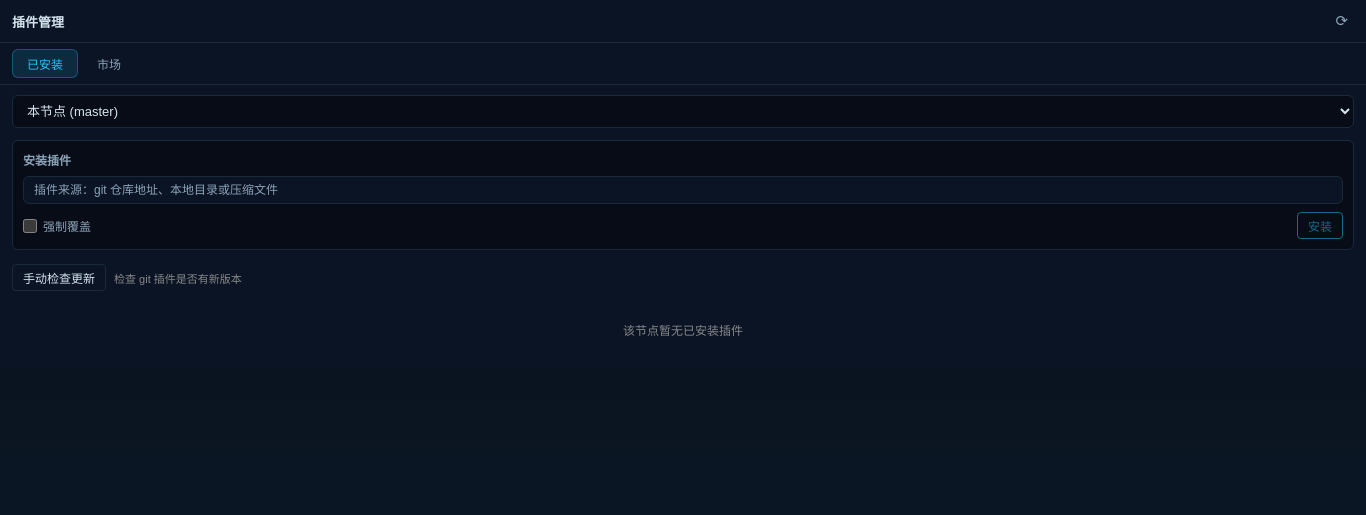
Test case: PluginSidebar › 市场 tab：加载时带分页参数并渲染总数/分页信息
The width and height of the screenshot is (1366, 515).
Click the button "市场" at coordinates (109, 64), box top-left (82, 49), bottom-right (136, 78)
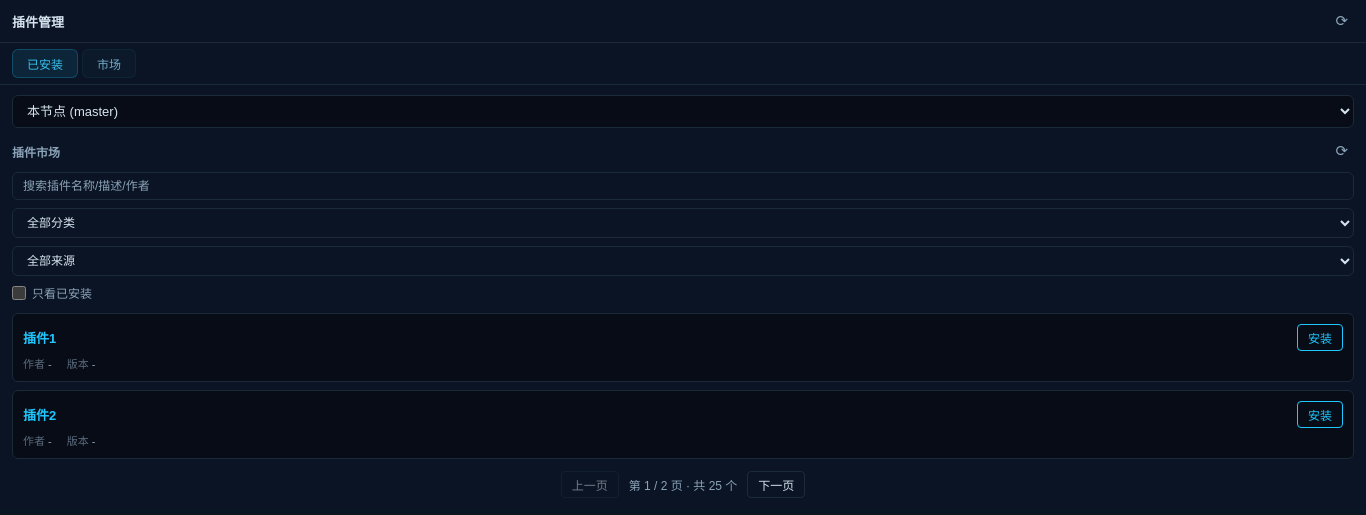
Now the text "第 1 / 2 页" is shown, box top-left (629, 479), bottom-right (737, 493)
Now the text "共 25 个" is shown, box top-left (629, 479), bottom-right (737, 493)
Now the 2nd dropdown is shown, box top-left (12, 208), bottom-right (1354, 238)
